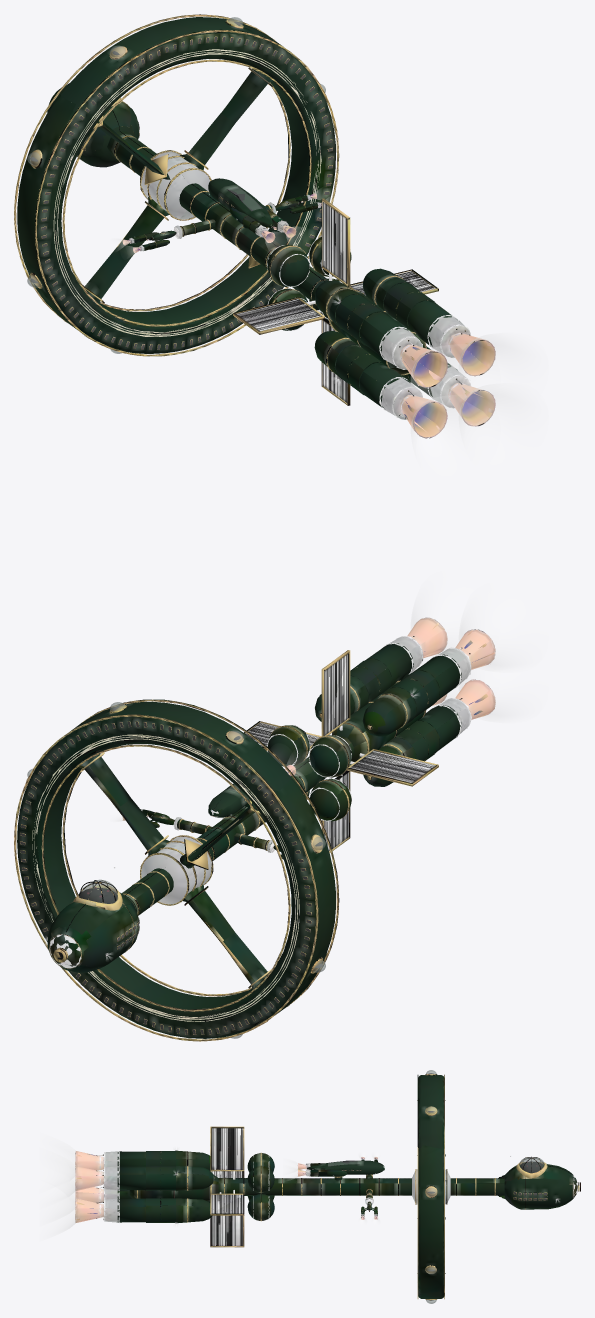
File: Sovereign_LOD2.glb
3 views of the same model, one above another, from view 1: azimuth 30°, elevation 25°; view 2: azimuth 150°, elevation 25°; view 3: azimuth 270°, elevation 25° (orthographic). The views are drawn at different scales.
Parts seen in each view (by area): view 1: hull, detail, plume, c_0, c_1; view 2: hull, detail, plume, c_0, c_1; view 3: hull, detail, plume, c_1.
Boxes of the visible parts, x1=… form: hull: x1=14, y1=14, x2=469, y2=418; detail: x1=53, y1=49, x2=495, y2=438; plume: x1=116, y1=189, x2=525, y2=458; c_0: x1=30, y1=22, x2=332, y2=349; c_1: x1=27, y1=17, x2=325, y2=353; hull: x1=14, y1=636, x2=470, y2=1041; detail: x1=32, y1=617, x2=495, y2=1021; plume: x1=116, y1=597, x2=525, y2=859; c_0: x1=20, y1=706, x2=322, y2=1034; c_1: x1=27, y1=702, x2=325, y2=1038; hull: x1=96, y1=1074, x2=580, y2=1300; detail: x1=75, y1=1128, x2=579, y2=1273; plume: x1=43, y1=1137, x2=378, y2=1236; c_1: x1=328, y1=1070, x2=544, y2=1303.
Size of the model in its own units: 116 by 116 by 293.
Materials: 7 (5 with a texture image).
